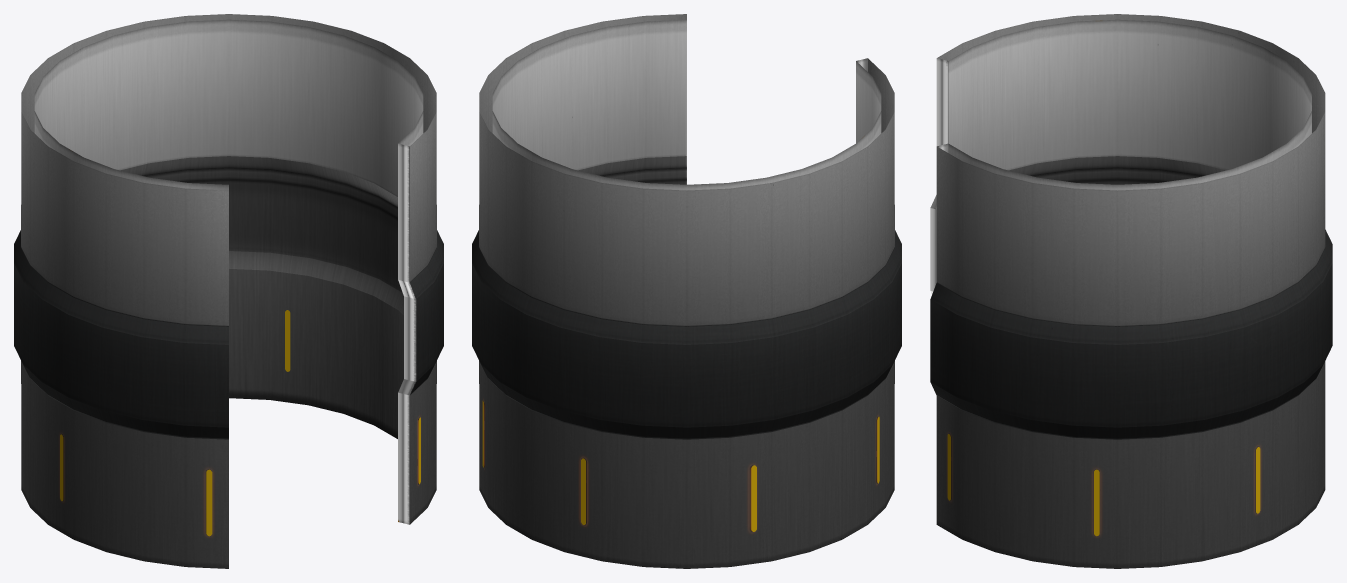
The model's file is Endor_InnerDoor.fbx.
3 renders of one model, left to right at view 1: azimuth 30°, elevation 25°; view 2: azimuth 150°, elevation 25°; view 3: azimuth 270°, elevation 25°, orthographic.
Parts seen in each view (by area): view 1: Endor_InnerDoor; view 2: Endor_InnerDoor; view 3: Endor_InnerDoor.
Boxes of the visible parts, <box> form: Endor_InnerDoor: <box>14,14,443,568</box>; Endor_InnerDoor: <box>472,14,901,568</box>; Endor_InnerDoor: <box>930,14,1332,568</box>.
Size of the model in its own units: 4.67 by 4.51 by 4.34.
